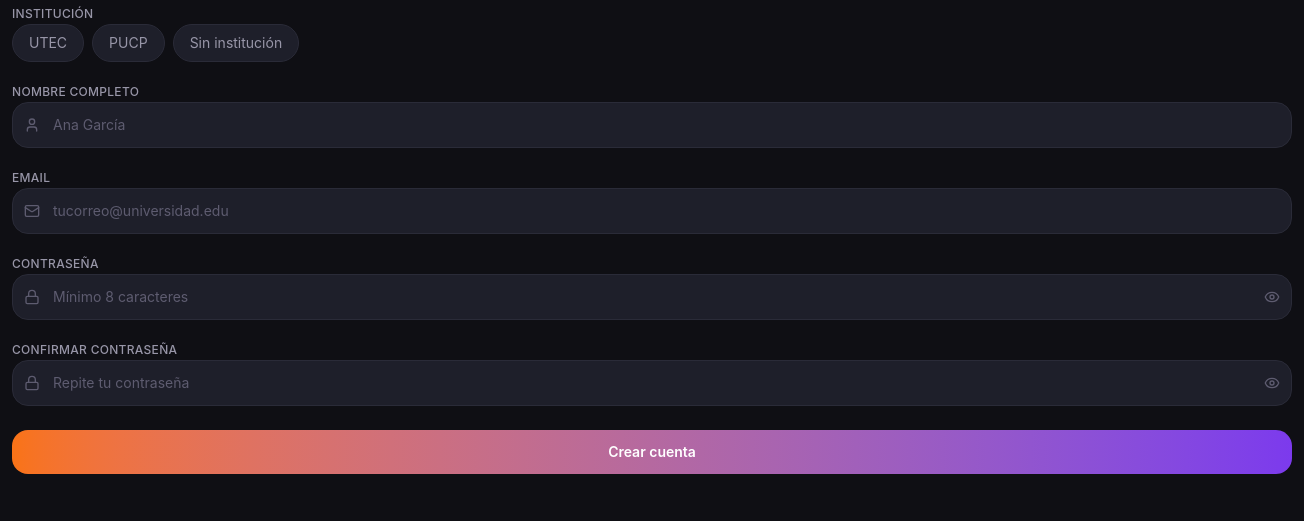
Test: RegisterForm — selector de institución › el medidor de fuerza reacciona en vivo al tipear la contraseña (Issue W2.4)
The width and height of the screenshot is (1304, 521).
Check: the radio button labelled "UTEC" is shown, box 12,24 -> 84,62
Check: the text "Fuerza:" is not shown
In the password field with placeholder "Mínimo 8 caracteres": (652,297) 12,274 -> 1292,320, type "abcdefgh"
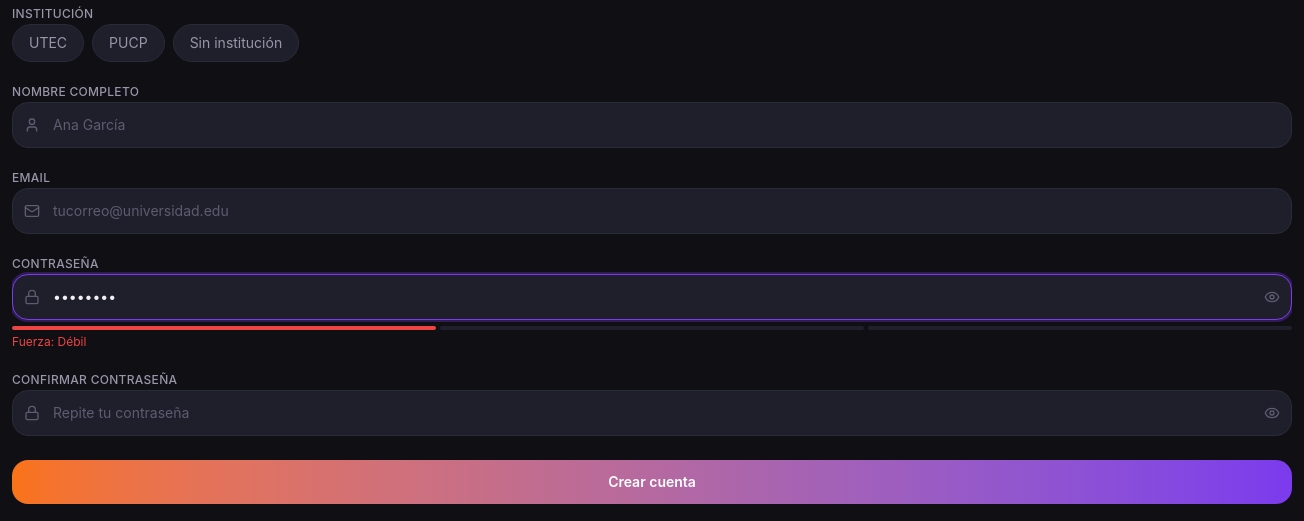
Check: the text "Fuerza: Débil" is shown, box 12,334 -> 86,349
In the password field with placeholder "Mínimo 8 caracteres": (652,297) 12,274 -> 1292,320, type "123!XYZ"
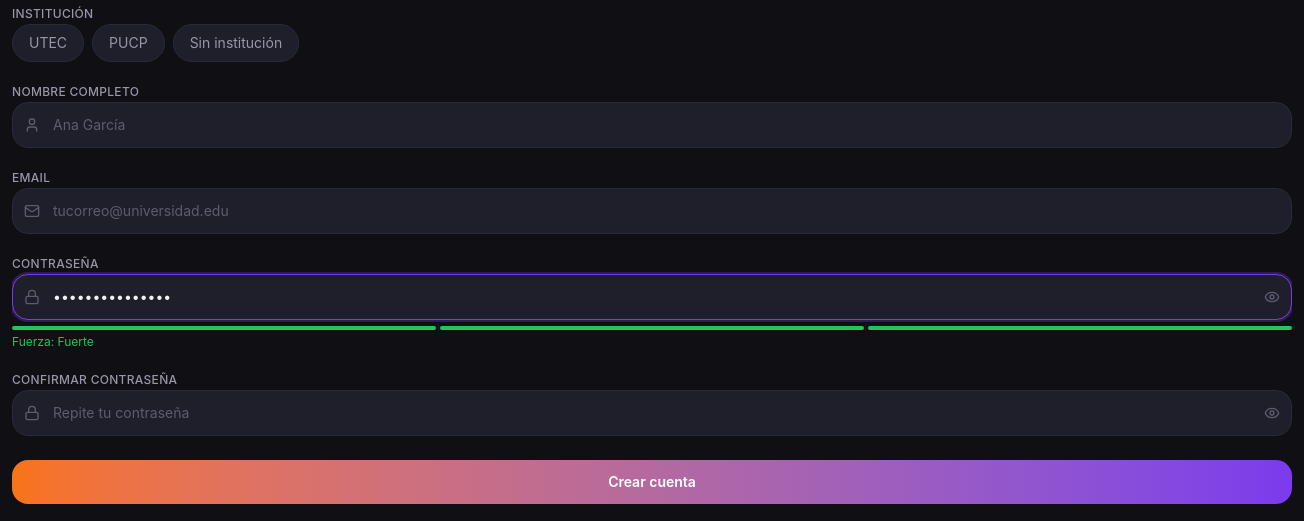
Check: the text "Fuerza: Fuerte" is shown, box 12,334 -> 94,349
